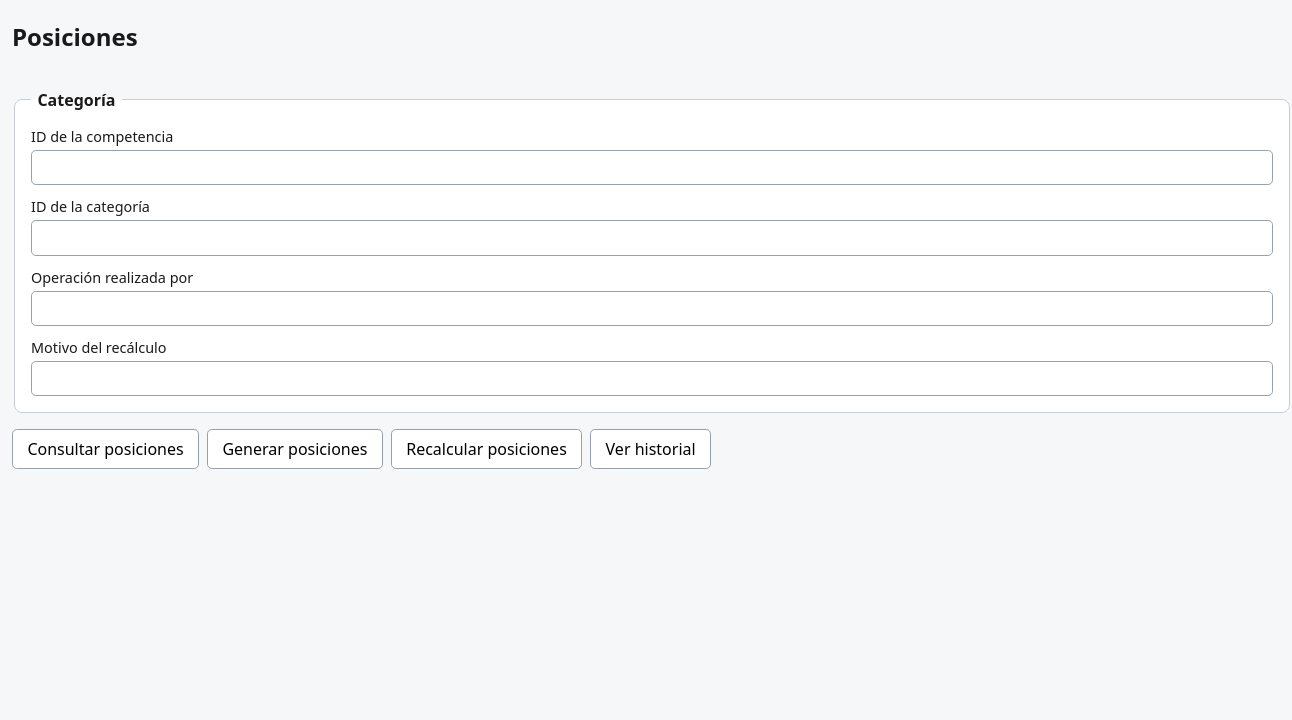
Test: StandingsPage › generates the standings as the given actor
Step 1. Type "COMPETITION-1" into the field labelled "ID de la competencia" → [652, 168], box [31,150,1273,185]
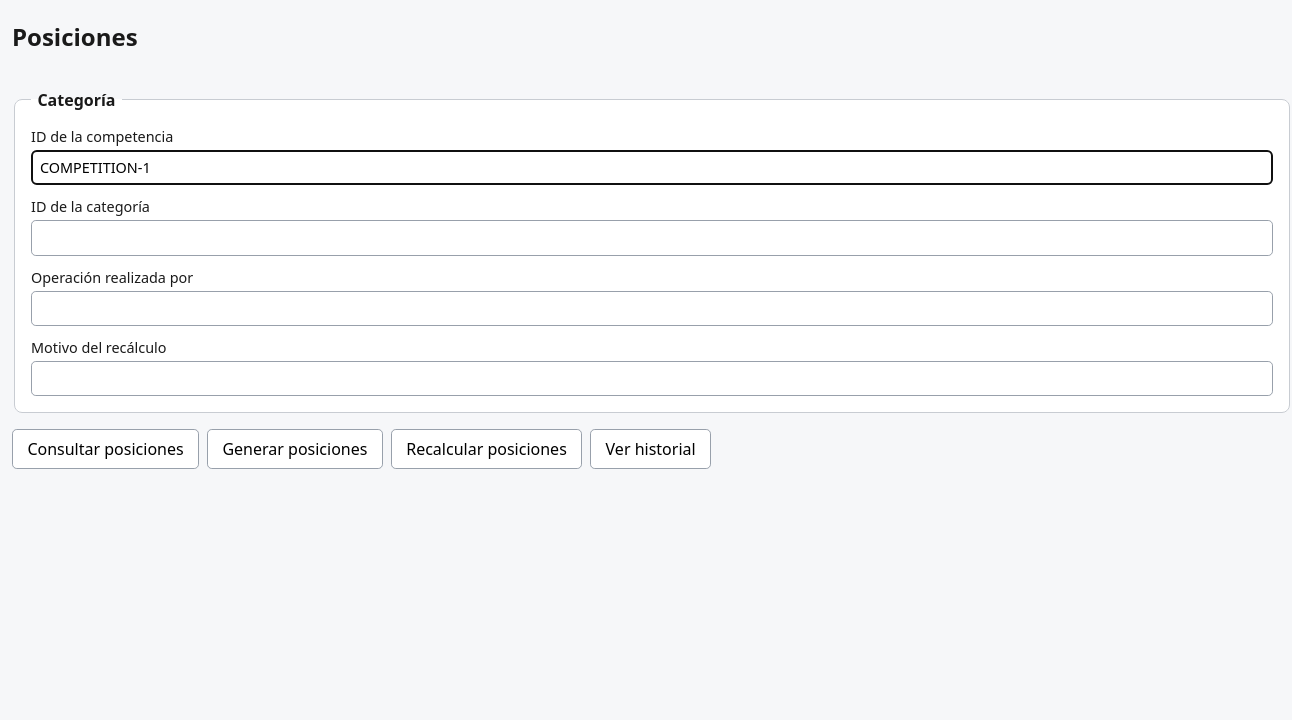
Step 2. Type "CATEGORY-1" into the field labelled "ID de la categoría" → [652, 238], box [31,220,1273,256]
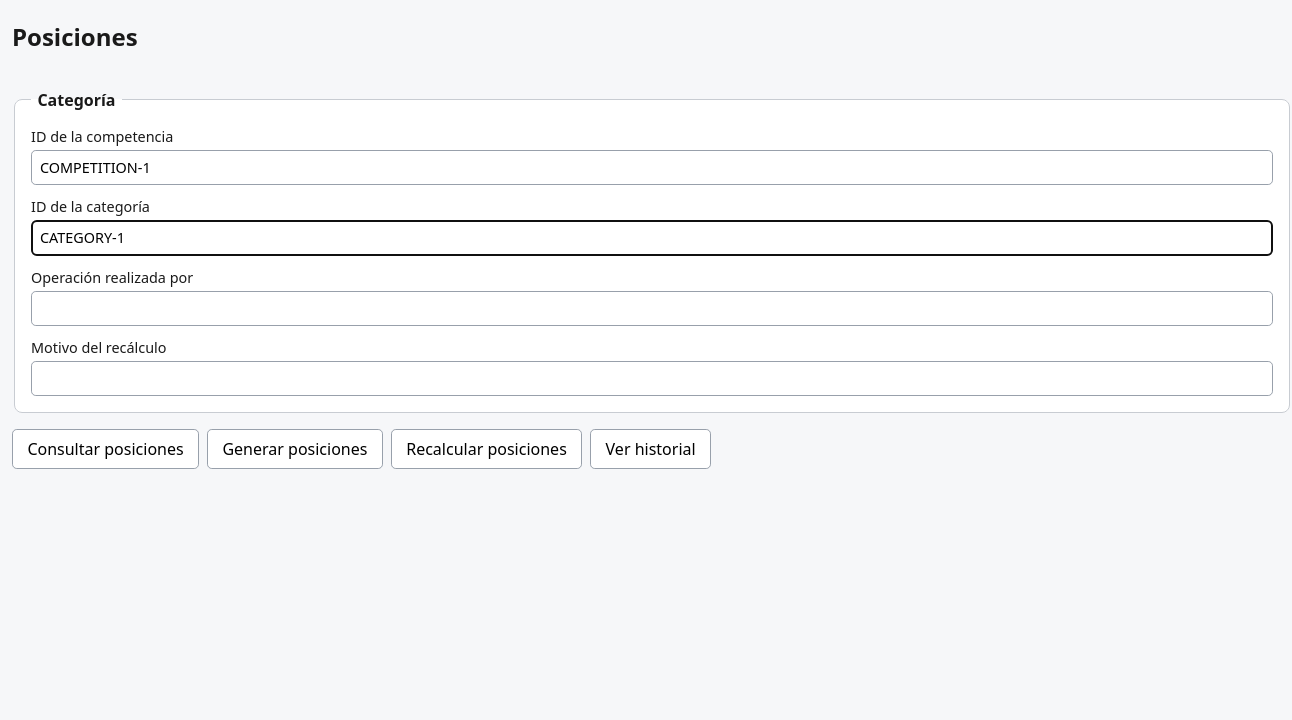
Step 3. Type "organizer" into the field labelled "Operación realizada por" → [652, 308], box [31,291,1273,326]
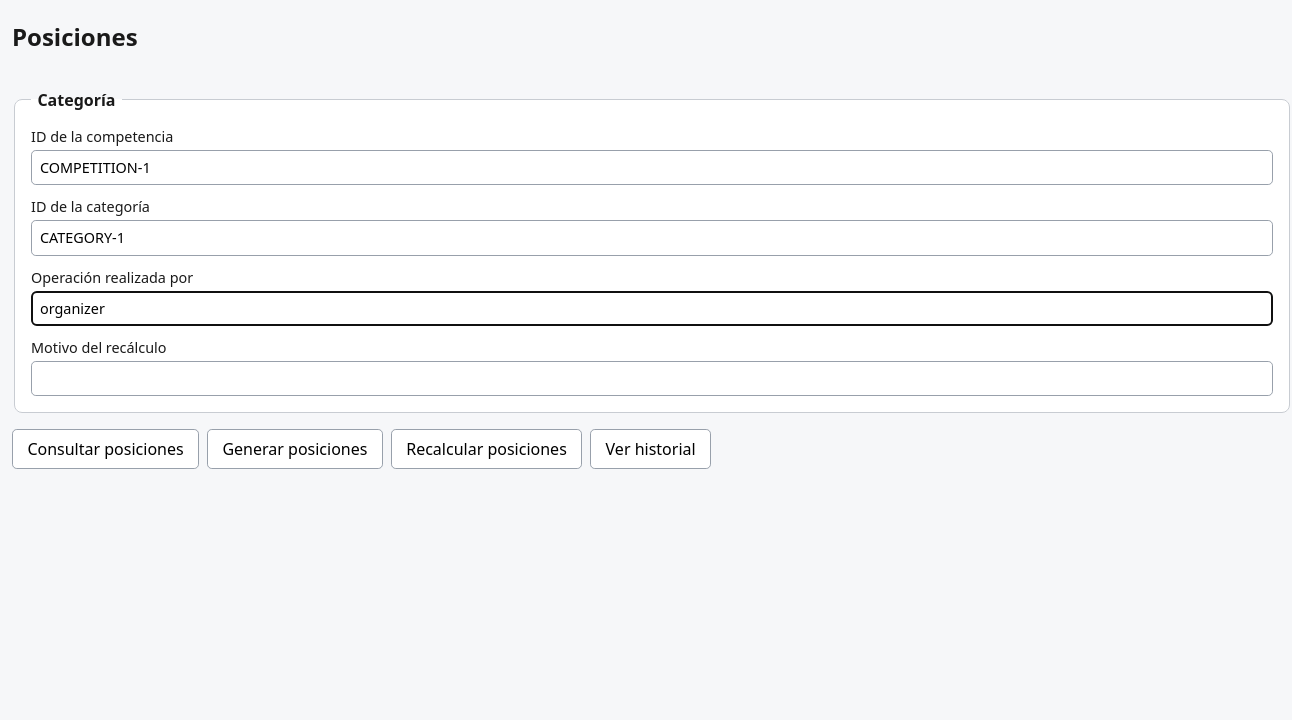
Step 4. Click the button "Generar posiciones" → [295, 449], box [207,429,383,469]
(page scrolled)
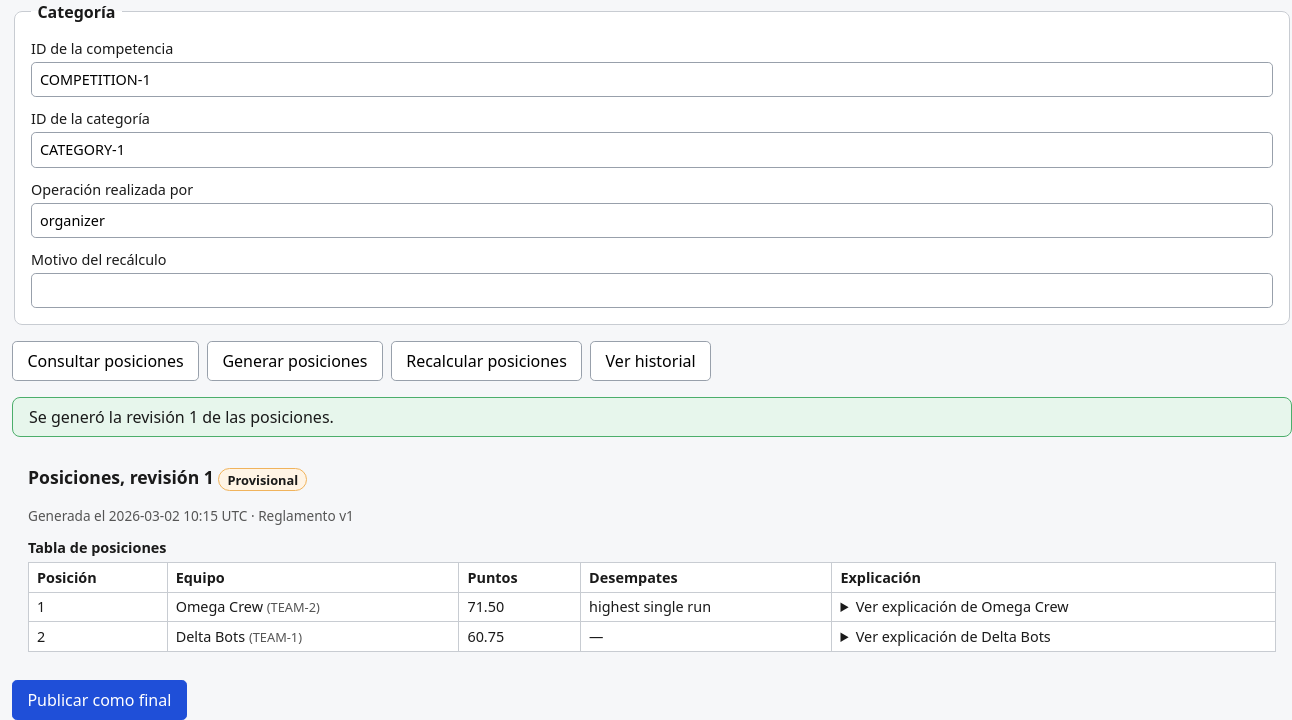
Result: the message shows "Se generó la revisión 1" at [29,406,334,428]
Result: the table is shown at [28,538,1276,652]
